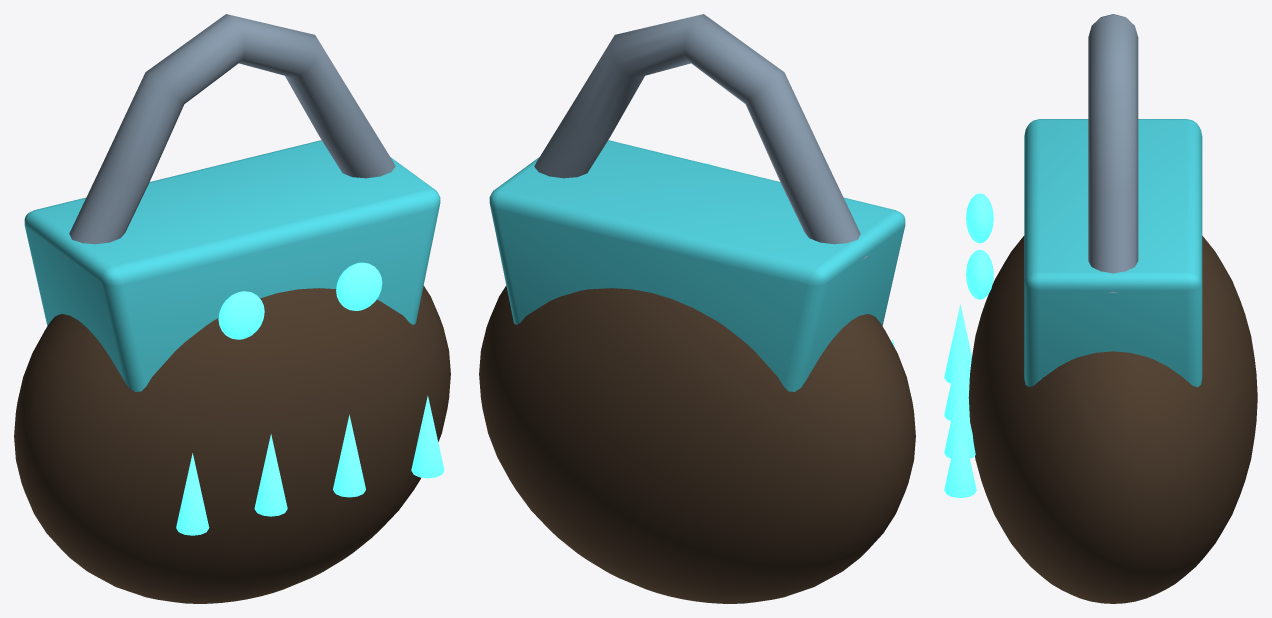
Rendered from mimic_v6.glb.
3 renders of one model, left to right at view 1: azimuth 30°, elevation 25°; view 2: azimuth 150°, elevation 25°; view 3: azimuth 270°, elevation 25°, orthographic.
Parts seen in each view (by area): view 1: SATCHEL_BODY_SECONDARY, SATCHEL_FLAP_ACCENT, SATCHEL_STRAP_PRIMARY, EYE_EMISSIVE.001, EYE_EMISSIVE, SATCHEL_TOOTH_EMISSIVE.001, SATCHEL_TOOTH_EMISSIVE.003, SATCHEL_TOOTH_EMISSIVE.002, SATCHEL_TOOTH_EMISSIVE; view 2: SATCHEL_BODY_SECONDARY, SATCHEL_FLAP_ACCENT, SATCHEL_STRAP_PRIMARY; view 3: SATCHEL_BODY_SECONDARY, SATCHEL_FLAP_ACCENT, SATCHEL_STRAP_PRIMARY, SATCHEL_TOOTH_EMISSIVE.003, EYE_EMISSIVE, EYE_EMISSIVE.001, SATCHEL_TOOTH_EMISSIVE.002, SATCHEL_TOOTH_EMISSIVE, SATCHEL_TOOTH_EMISSIVE.001.
Boxes of the visible parts, <box> form: SATCHEL_BODY_SECONDARY: <box>14,286,450,603</box>; SATCHEL_FLAP_ACCENT: <box>24,140,440,391</box>; SATCHEL_STRAP_PRIMARY: <box>62,14,395,259</box>; EYE_EMISSIVE.001: <box>336,262,382,310</box>; EYE_EMISSIVE: <box>218,291,264,339</box>; SATCHEL_TOOTH_EMISSIVE.001: <box>254,434,287,516</box>; SATCHEL_TOOTH_EMISSIVE.003: <box>411,395,444,478</box>; SATCHEL_TOOTH_EMISSIVE.002: <box>333,414,365,497</box>; SATCHEL_TOOTH_EMISSIVE: <box>176,453,209,535</box>; SATCHEL_BODY_SECONDARY: <box>479,286,915,603</box>; SATCHEL_FLAP_ACCENT: <box>489,140,905,391</box>; SATCHEL_STRAP_PRIMARY: <box>534,14,867,259</box>; SATCHEL_BODY_SECONDARY: <box>968,236,1257,603</box>; SATCHEL_FLAP_ACCENT: <box>1024,119,1202,387</box>; SATCHEL_STRAP_PRIMARY: <box>1088,14,1138,293</box>; SATCHEL_TOOTH_EMISSIVE.003: <box>944,416,976,497</box>; EYE_EMISSIVE: <box>966,193,993,243</box>; EYE_EMISSIVE.001: <box>966,250,993,299</box>; SATCHEL_TOOTH_EMISSIVE.002: <box>944,379,975,458</box>; SATCHEL_TOOTH_EMISSIVE: <box>944,304,971,383</box>; SATCHEL_TOOTH_EMISSIVE.001: <box>944,341,969,420</box>.
Bounding box in the file's own units: 1.68 × 2.24 × 1.13.
